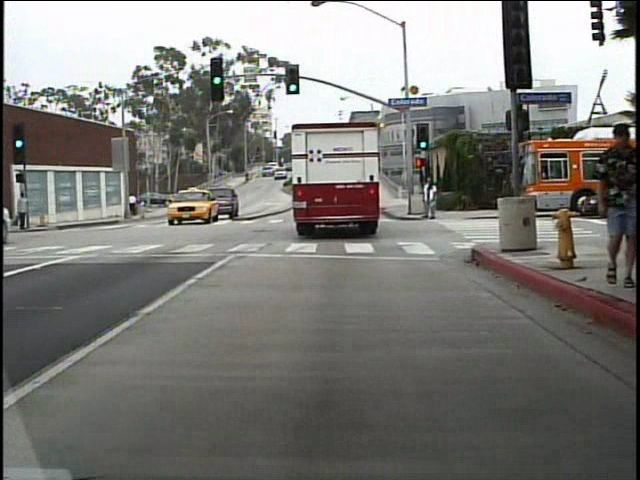person: (587, 121, 630, 292), (418, 176, 442, 221), (16, 189, 34, 232), (126, 187, 142, 220)
